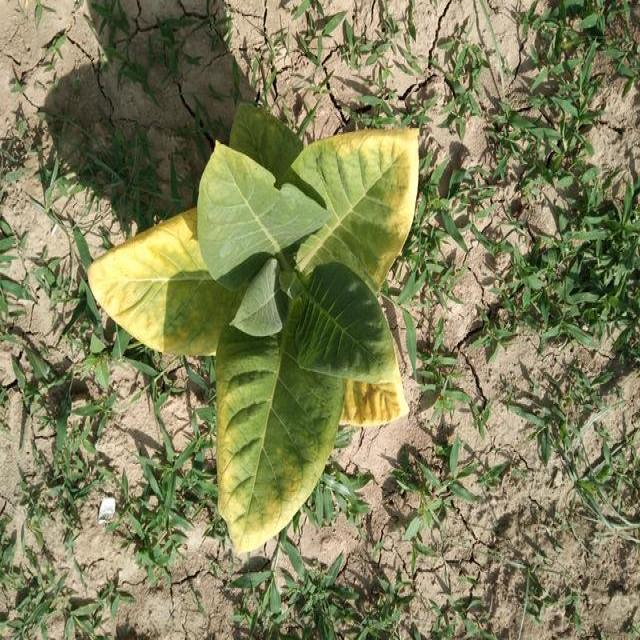crop: (84, 116, 434, 564)
